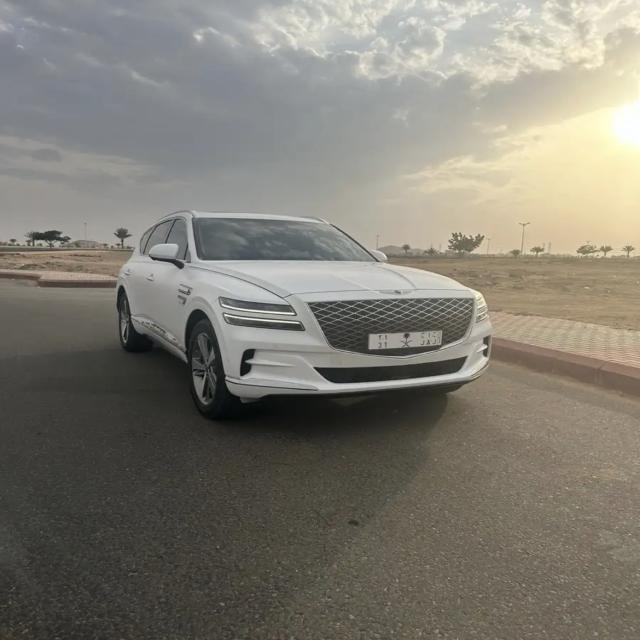license_plate: (368, 329, 442, 348)
